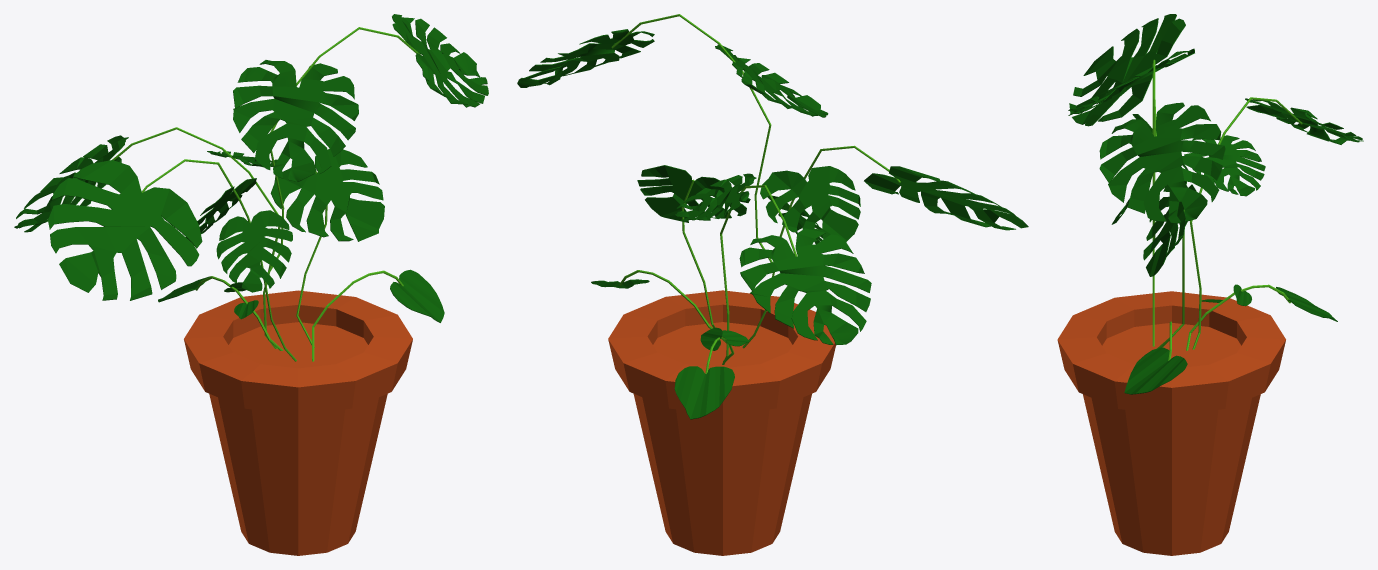
Rendered from plant_final_02.FBX.
3 views of the same model, side by side, from view 1: azimuth 30°, elevation 25°; view 2: azimuth 150°, elevation 25°; view 3: azimuth 270°, elevation 25° (orthographic).
Visible parts, largest first — view 1: flower_pot, 4_leaf_small_2 (×2), 4_leaf, 2_leaf, 4_leaf_bigger, 3_leaf_big, 1_leaf, 4_leaf_small, 3_stalk, 4_stalk, 4_stalk_3; view 2: flower_pot, 3_leaf_big, 4_leaf_small, 4_leaf, 4_leaf_bigger, 2_leaf, 3_leaf_small, 4_leaf_small_2, 3_leaf, 4_stalk_3, 3_stalk; view 3: flower_pot, 4_leaf_bigger, 4_leaf, 3_leaf, 1_leaf, 2_leaf, 3_leaf_big, 4_leaf_small_2, 3_stalk, 3_leaf_small, 4_stalk, 3_stalk_small.
Part boxes in pixels (x1,y1,x2,y2): flower_pot: (184, 290, 412, 555); 4_leaf_small_2 (×2): (216, 60, 358, 292); 4_leaf: (48, 160, 202, 300); 2_leaf: (270, 148, 384, 241); 4_leaf_bigger: (392, 14, 488, 107); 3_leaf_big: (14, 135, 128, 232); 1_leaf: (390, 269, 444, 322); 4_leaf_small: (186, 178, 256, 241); 3_stalk: (112, 127, 280, 348); 4_stalk: (141, 159, 296, 361); 4_stalk_3: (267, 27, 420, 273); flower_pot: (608, 290, 835, 555); 3_leaf_big: (739, 228, 871, 345); 4_leaf_small: (760, 166, 860, 241); 4_leaf: (864, 166, 1028, 230); 4_leaf_bigger: (517, 29, 654, 87); 2_leaf: (637, 165, 750, 222); 3_leaf_small: (674, 366, 734, 419); 4_leaf_small_2: (715, 44, 828, 117); 3_leaf: (675, 173, 756, 221); 4_stalk_3: (611, 14, 772, 262); 3_stalk: (720, 185, 797, 364); flower_pot: (1057, 291, 1285, 555); 4_leaf_bigger: (1099, 102, 1225, 223); 4_leaf: (1069, 14, 1185, 126); 3_leaf: (1184, 135, 1265, 196); 1_leaf: (1124, 347, 1187, 394); 2_leaf: (1143, 181, 1196, 276); 3_leaf_big: (1245, 98, 1363, 144); 4_leaf_small_2: (1068, 48, 1194, 115); 3_stalk: (1190, 97, 1302, 349); 3_leaf_small: (1276, 287, 1337, 321); 4_stalk: (1152, 63, 1154, 346); 3_stalk_small: (1186, 284, 1290, 350).
Bounding box in the file's own units: 67.12 × 69.32 × 38.69.
